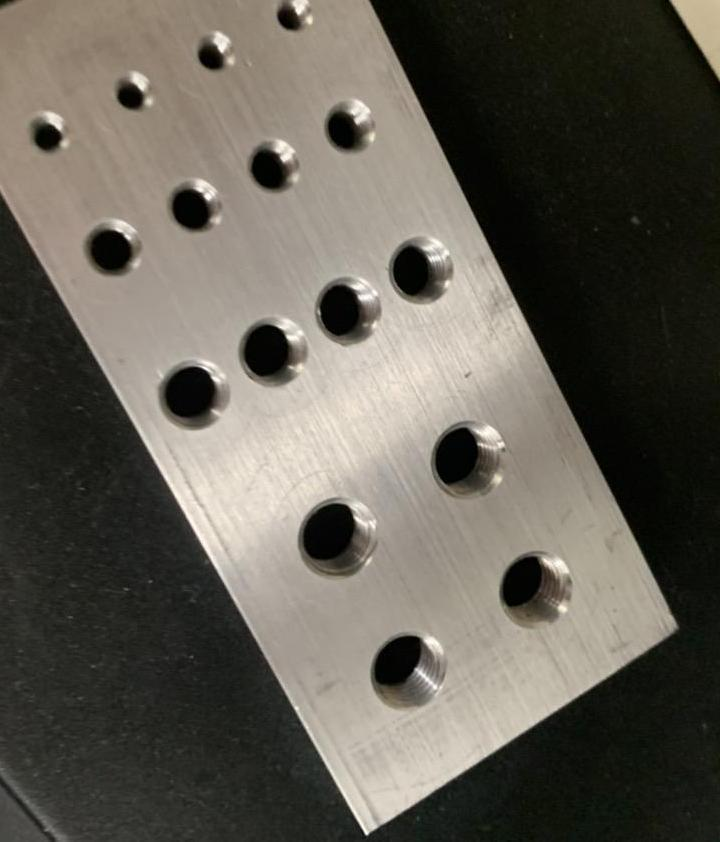hole: (358, 624, 452, 716), (288, 492, 382, 582), (426, 412, 513, 504), (492, 543, 580, 632), (149, 352, 236, 432), (232, 312, 312, 390), (308, 272, 386, 350), (386, 228, 458, 308), (78, 209, 146, 284), (162, 175, 226, 239), (316, 98, 381, 158), (241, 135, 304, 194), (24, 100, 78, 164), (190, 28, 246, 80), (108, 70, 164, 117), (266, 0, 322, 39)
